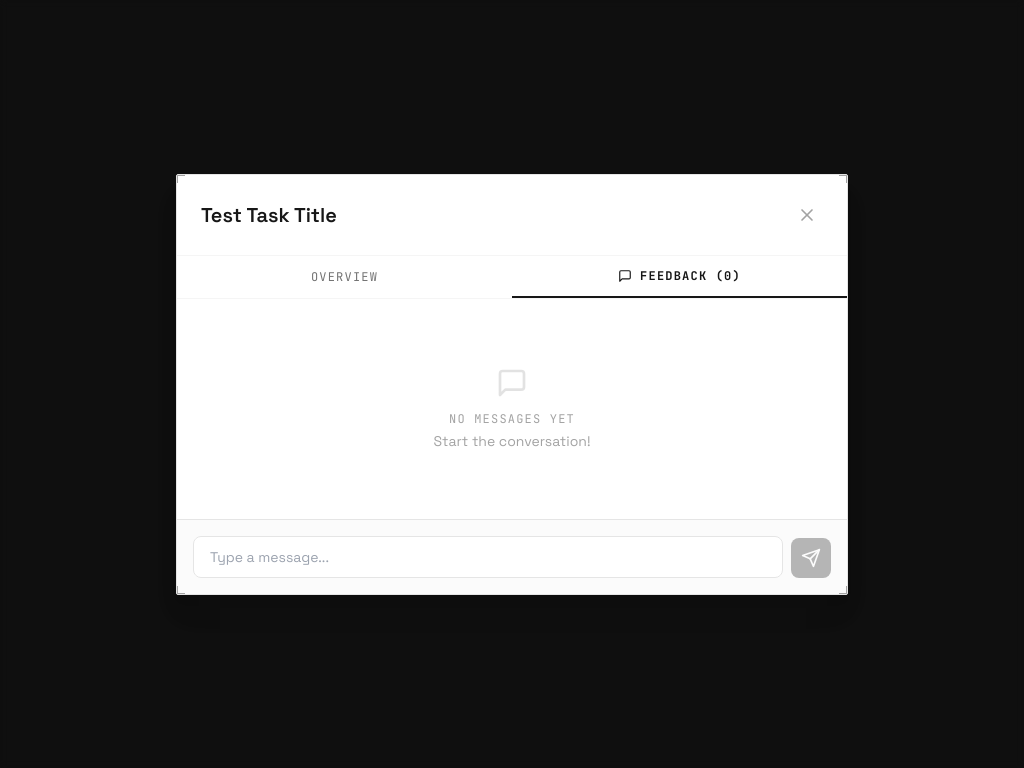
Scenario: ClientTaskModal › renders description in Overview tab
The width and height of the screenshot is (1024, 768).
Click the button "Overview" at (344,276), box [177,256,512,298]
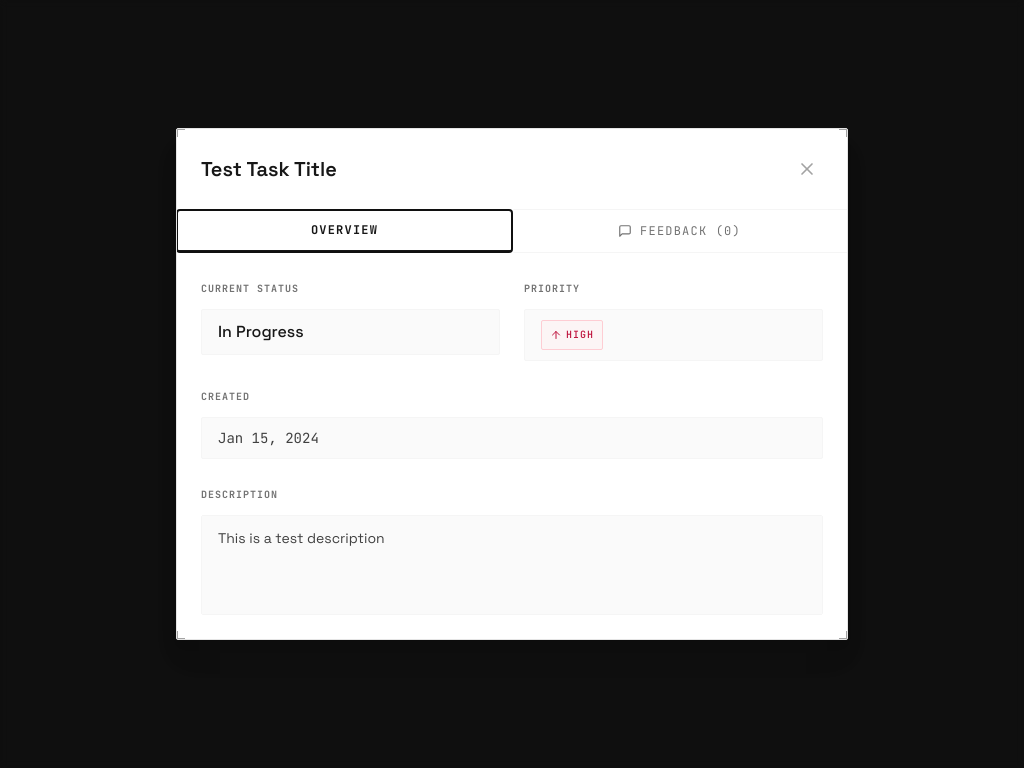
Expected: the text "This is a test description" is shown, [201,515,823,615]
